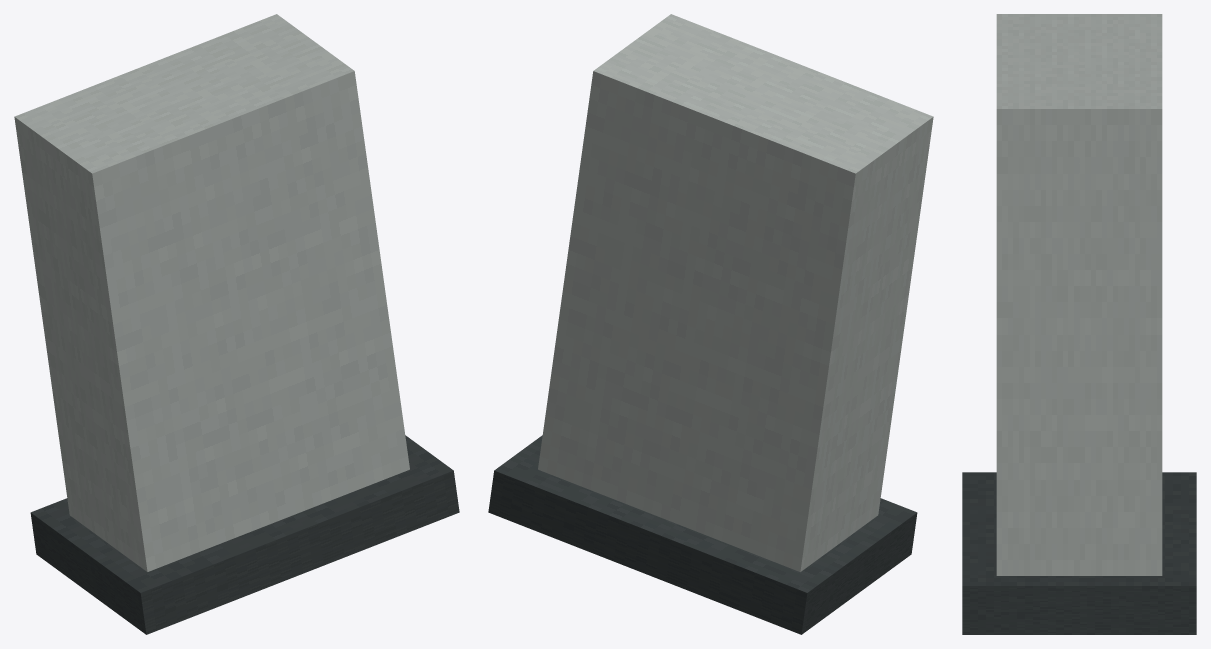
The model's file is Ironhawk50_Magazine.glb.
The picture shows the model from 3 angles, left to right: view 1: azimuth 30°, elevation 25°; view 2: azimuth 150°, elevation 25°; view 3: azimuth 270°, elevation 25°; orthographic projection. The views are drawn at different scales.
Parts seen in each view (by area): view 1: Wide magazine, Magazine heel pad; view 2: Wide magazine, Magazine heel pad; view 3: Wide magazine, Magazine heel pad.
Part boxes in pixels (left/top/right/bottom): Wide magazine: left=14, top=14, right=409, bottom=571; Magazine heel pad: left=30, top=435, right=459, bottom=634; Wide magazine: left=538, top=14, right=933, bottom=571; Magazine heel pad: left=488, top=435, right=917, bottom=634; Wide magazine: left=996, top=14, right=1162, bottom=575; Magazine heel pad: left=962, top=472, right=1196, bottom=634.
Size of the model in its own units: 0.0755 by 0.1022 by 0.041.
Materials: 1 (1 with a texture image).
